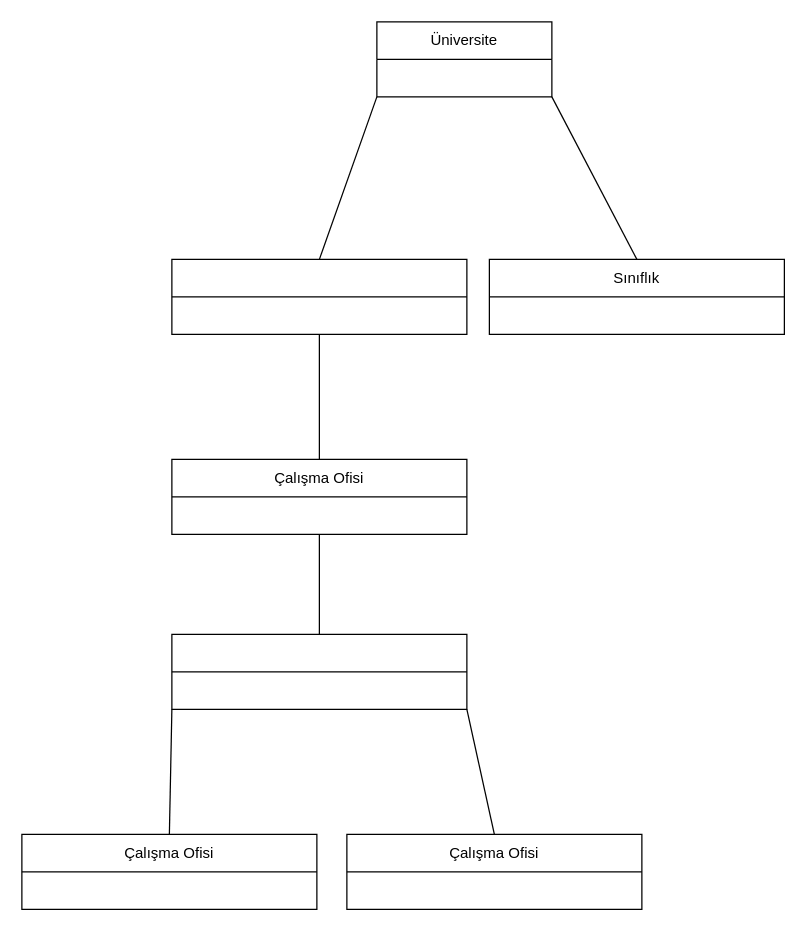
The diagram is 806 pixels wide and 931 high, and some of its shapes have lost their labels. Each missing label, with the centre of its shape:
Departman: (319,296)
Çalışanlar: (319,671)
